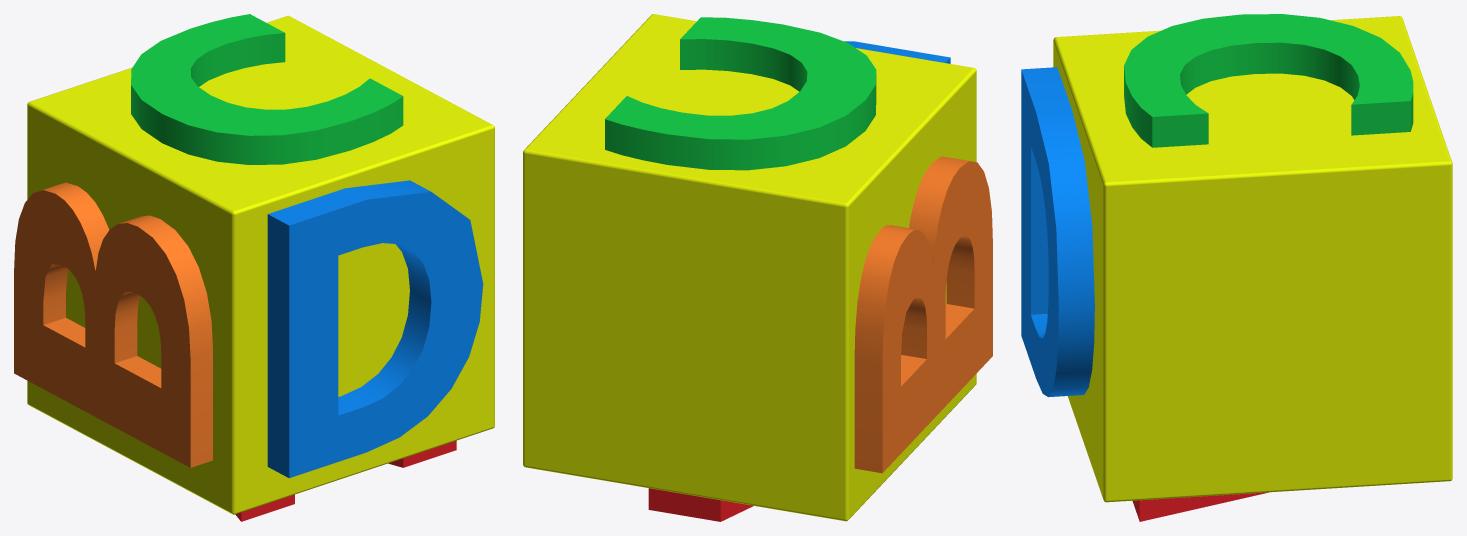
3 renders of one model, left to right at view 1: azimuth 30°, elevation 25°; view 2: azimuth 150°, elevation 25°; view 3: azimuth 270°, elevation 25°, orthographic. The views are drawn at different scales.
Parts seen in each view (by area): view 1: node_id30, node_id117, node_id71, node_id102, node_id50; view 2: node_id30, node_id71, node_id102, node_id50, node_id117; view 3: node_id30, node_id102, node_id117, node_id50.
Part boxes in pixels (x1,y1,x2,y2): node_id30: (27,15,494,514); node_id117: (267,180,483,478); node_id71: (14,182,212,467); node_id102: (131,14,403,164); node_id50: (235,440,456,521); node_id30: (523,14,976,521); node_id71: (854,156,992,473); node_id102: (605,17,876,170); node_id50: (648,488,753,521); node_id117: (844,41,950,63); node_id30: (1053,16,1452,502); node_id102: (1124,14,1413,147); node_id117: (1021,67,1094,397); node_id50: (1132,492,1268,521).
Size of the model in its own units: 0.6194 by 0.6093 by 0.6256.
5 materials, 1 textured.
